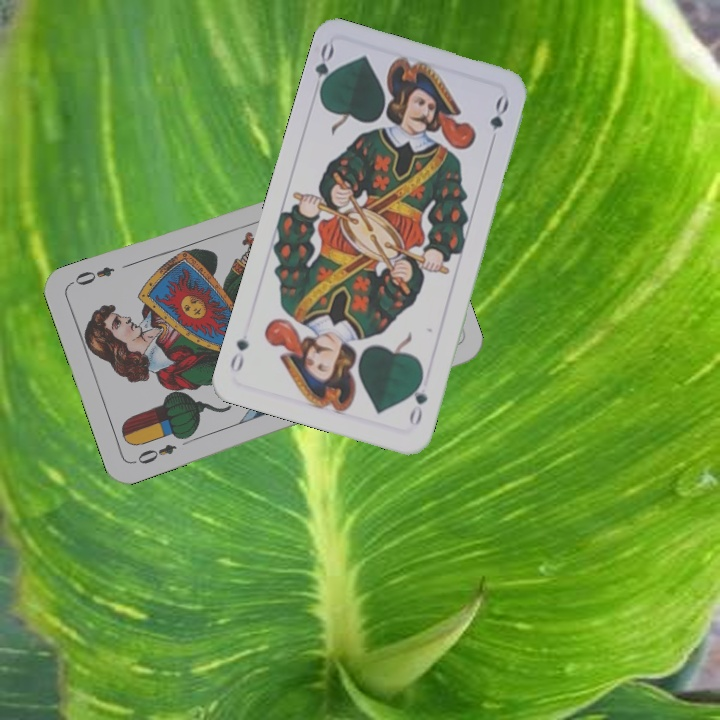EO: (129, 440, 179, 467)
GO: (310, 40, 340, 100), (405, 371, 431, 428)
